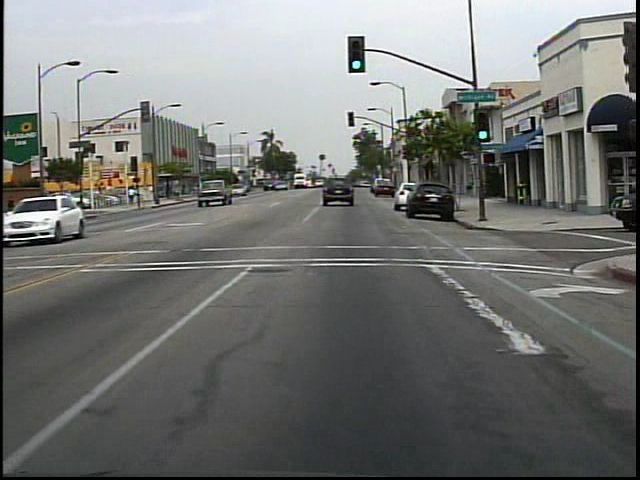person: (129, 183, 136, 206)
